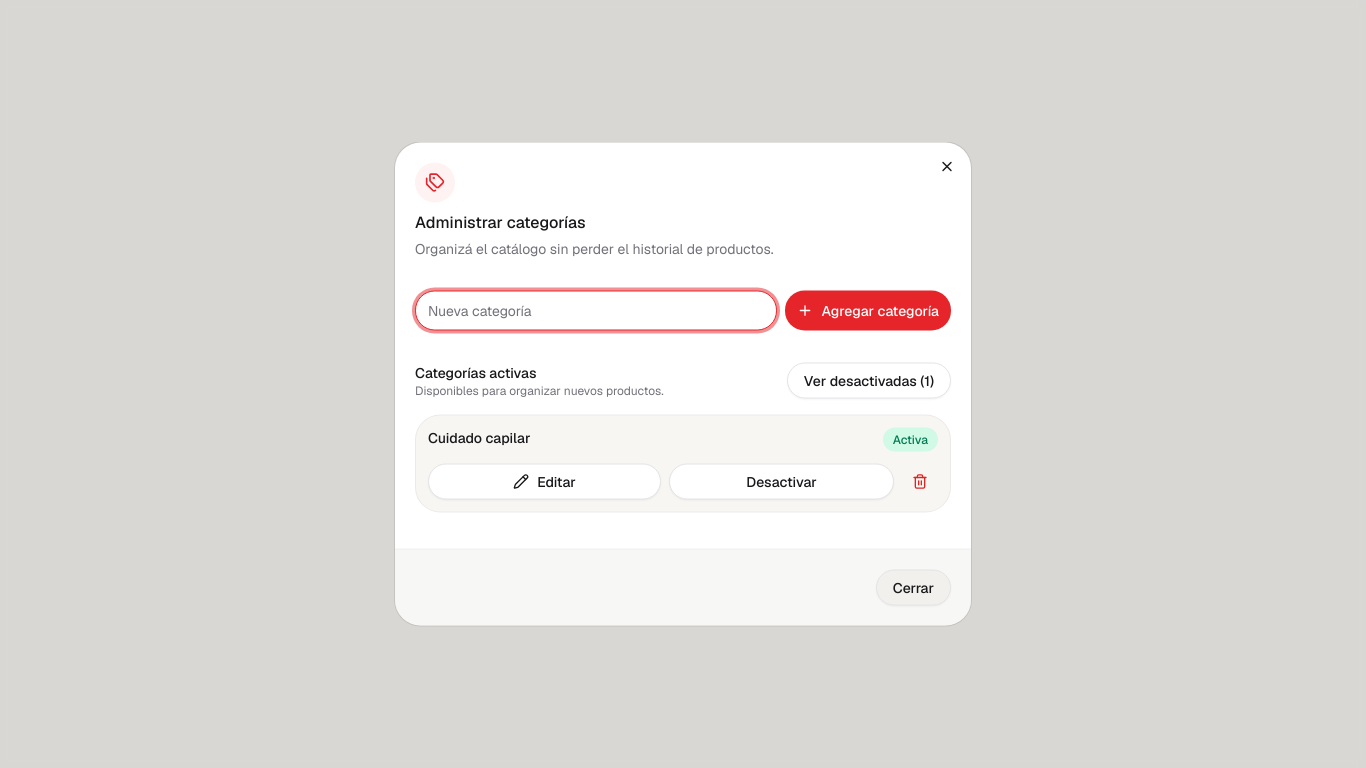
Test: creates, renames and replaces category records from API responses
The width and height of the screenshot is (1366, 768).
In the field labelled "Nueva categoría": (596, 310) [415, 290, 778, 330], type "Accesorios"
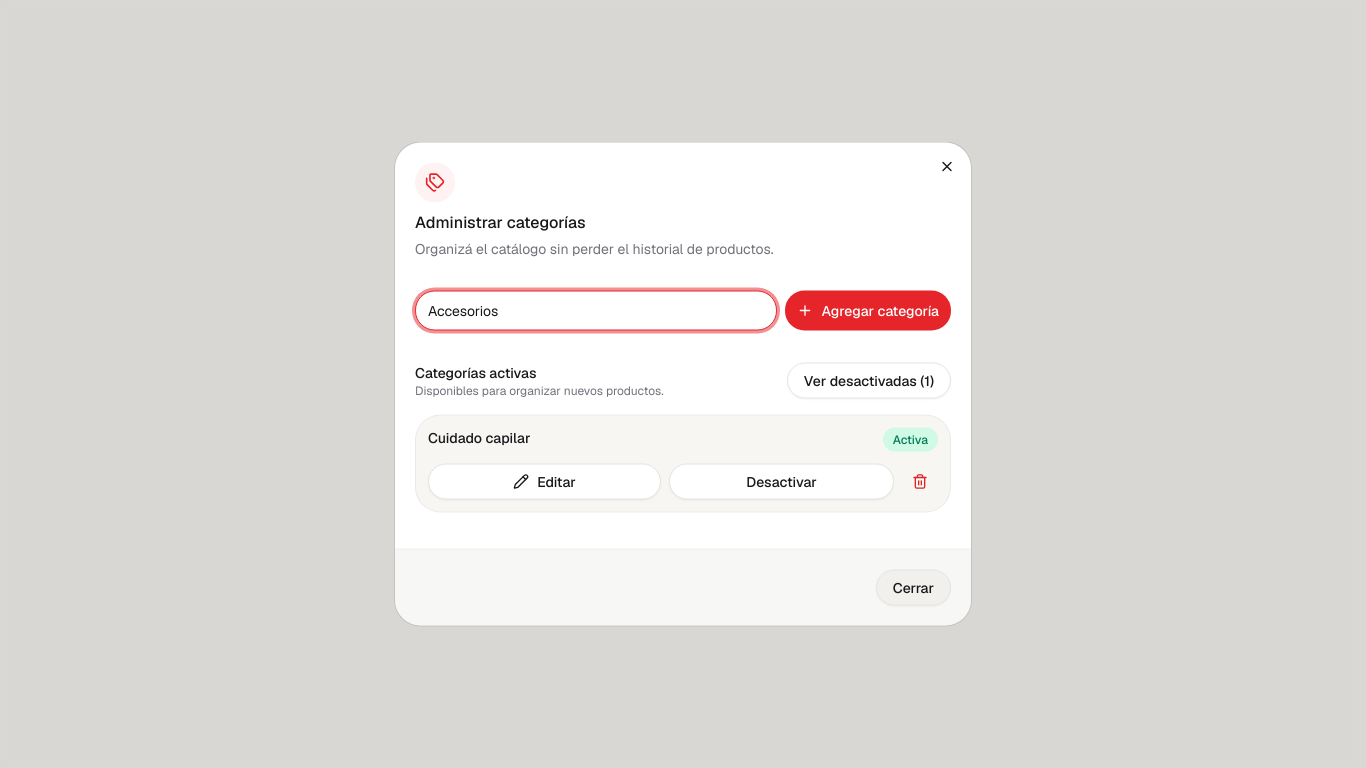
Click the button "Agregar categoría": (868, 310) [786, 290, 951, 330]
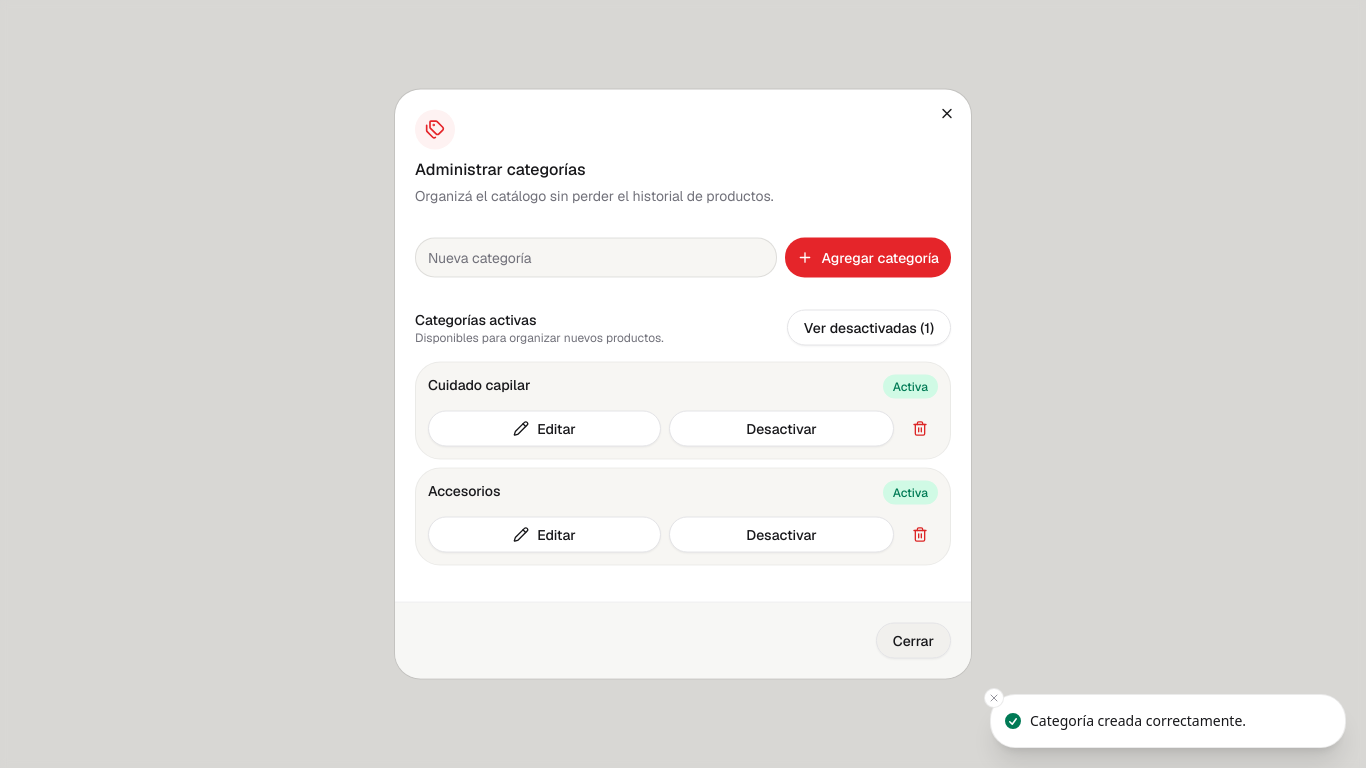
Expected: the text "Categoría creada correctamente." is shown, [1030, 711, 1246, 731]
Click the button with aria-label "Editar Cuidado capilar": (544, 428) [428, 410, 661, 446]
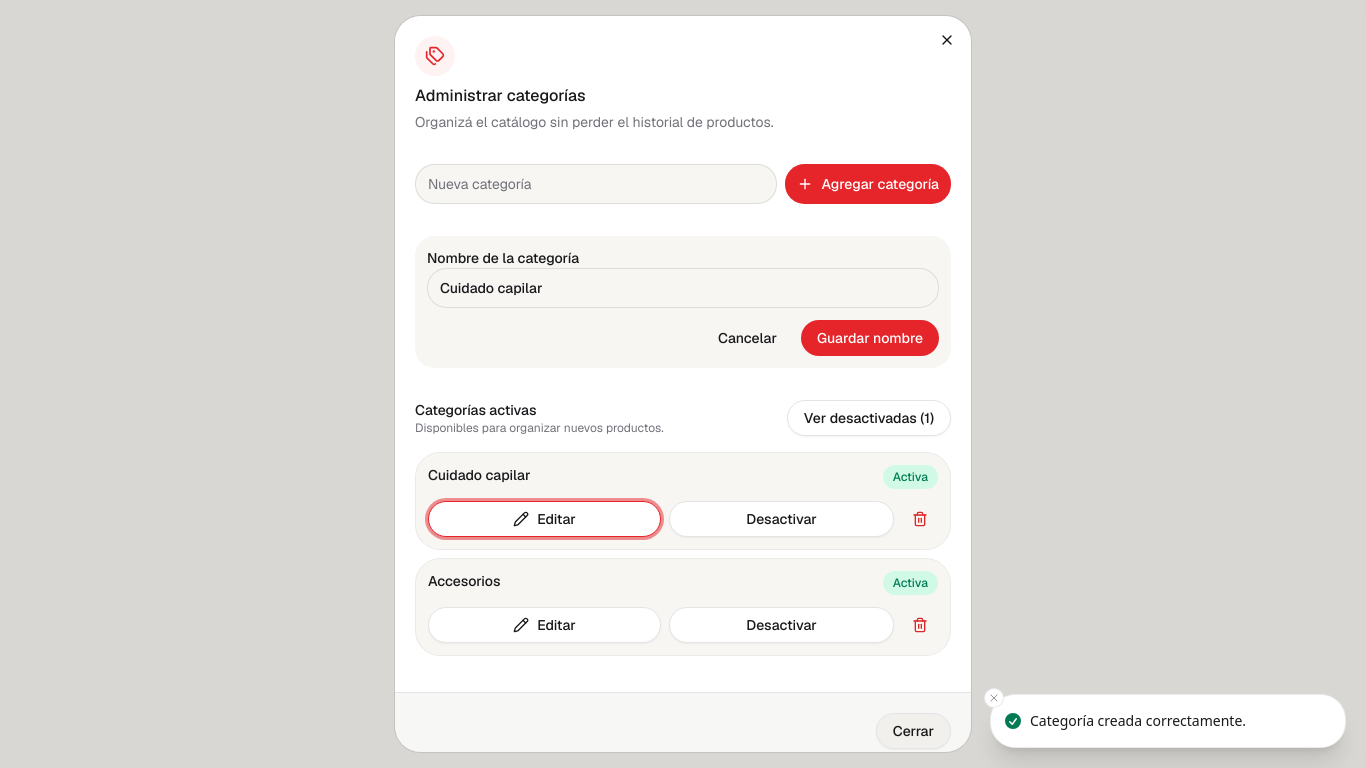
Replace the text in the field labelled "Nombre de la categoría" with "Cuidado del cabello": (683, 288) [427, 268, 939, 308]
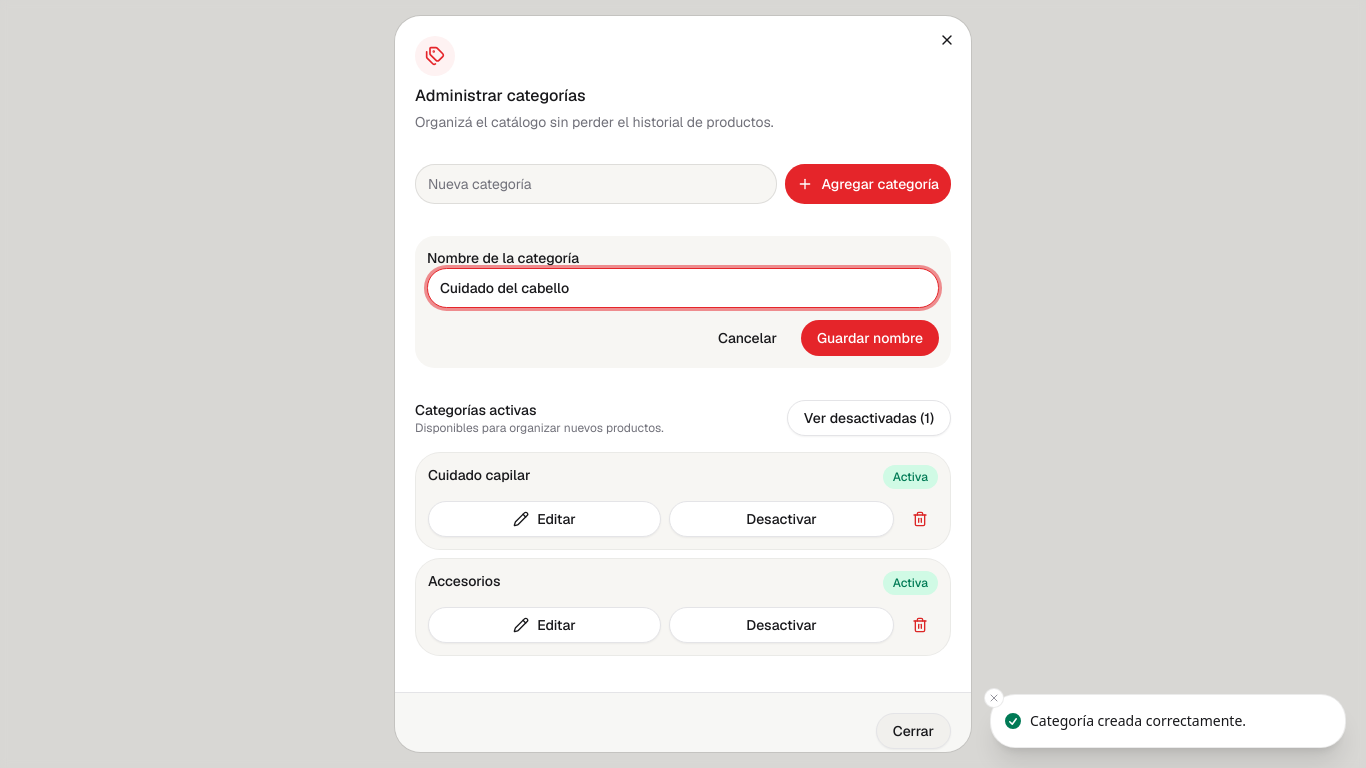
Click the button "Guardar nombre": (870, 338) [801, 320, 939, 356]
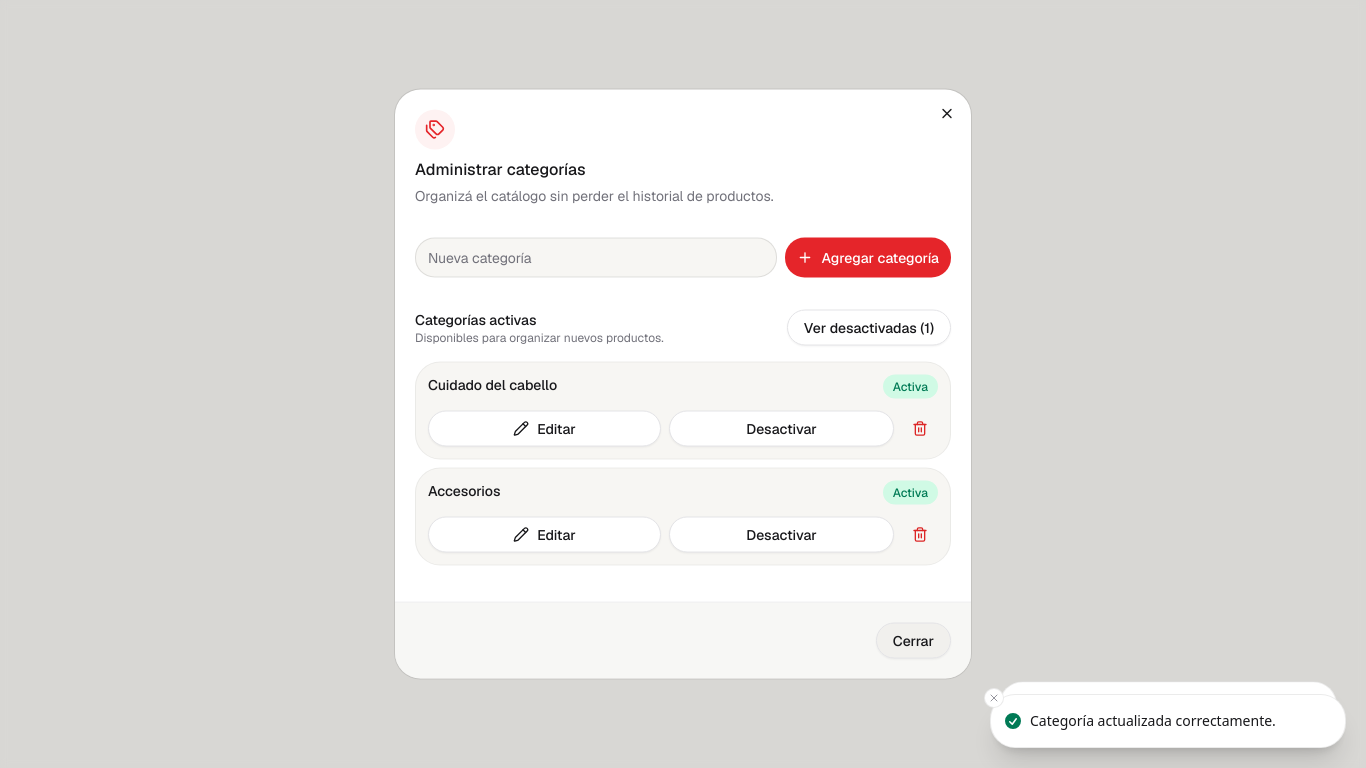
Expected: the text "Categoría actualizada correctamente." is shown, [1030, 711, 1276, 731]
